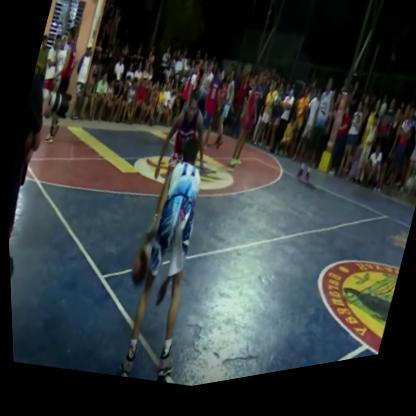basketball: (119, 240, 155, 301)
rim: (156, 0, 189, 16)
